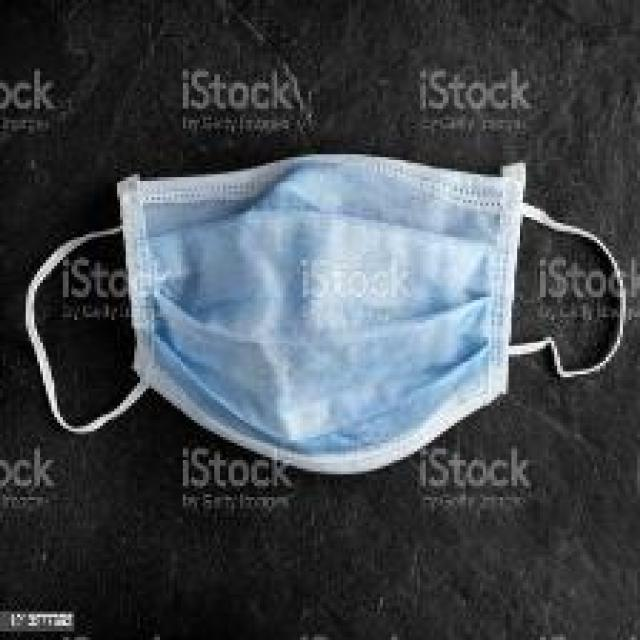Mask: (0, 133, 635, 493)
